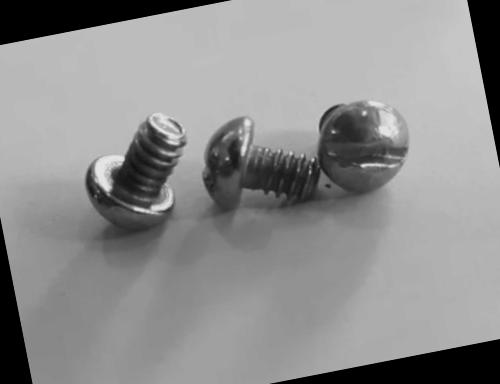screw: (311, 92, 418, 201)
